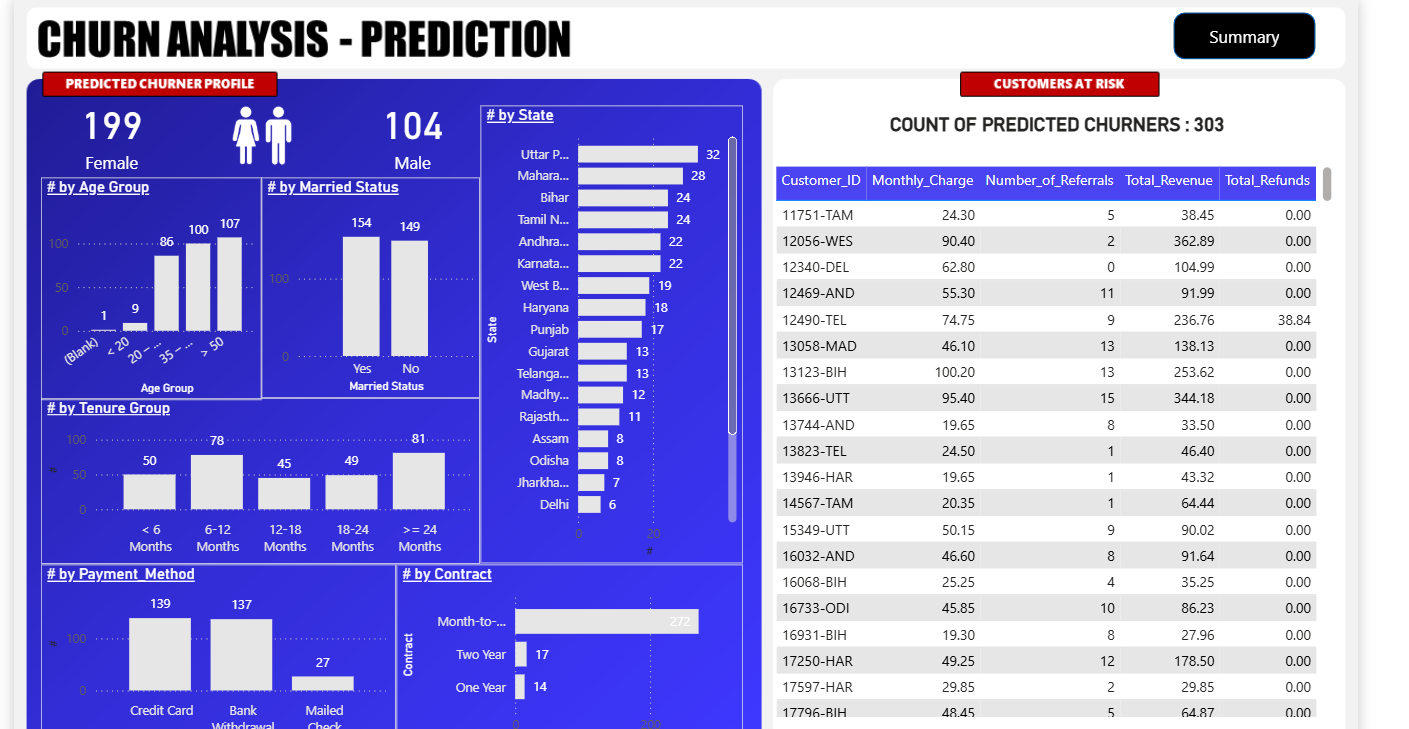

Layout of this report page (visuals, bound fields, positions):
{"tool":"powerbi","page":{"name":"Churn predictions","canvas":[1280,720],"ordinal":2},"visuals":[{"type":"tableEx","fields":{"Values":["Predictions_churned.Customer_ID","Predictions_churned.Monthly_Charge","Predictions_churned.Number_of_Referrals","Predictions_churned.Total_Revenue","Predictions_churned.Total_Refunds"]},"box":[720,154,540,534],"z":0},{"type":"card","fields":{"Values":["Predictions_churned.Title of Predicted Churners"]},"box":[810,84,362,70],"z":1000},{"type":"card","fields":{"Values":["Predictions_churned.Count of Predicted Churner"]},"box":[26,84,134,86],"z":2000},{"type":"card","fields":{"Values":["Predictions_churned.Count of Predicted Churner"]},"box":[314,84,130,86],"z":3000},{"type":"clusteredColumnChart","fields":{"Category":["mapping_AgeGrp.Age Group"],"Y":["CountNonNull(Predictions_churned.Customer_ID)"]},"box":[26,170,210,212],"z":4000},{"type":"clusteredColumnChart","fields":{"Y":["CountNonNull(Predictions_churned.Customer_ID)"],"Category":["Predictions_churned.Married"]},"box":[236,170,208,210],"z":5000},{"type":"clusteredColumnChart","fields":{"Y":["CountNonNull(Predictions_churned.Customer_ID)"],"Category":["mapping_TenureGrp.Tenure Group"]},"box":[26,380,418,158],"z":6000},{"type":"clusteredColumnChart","fields":{"Y":["CountNonNull(Predictions_churned.Customer_ID)"],"Category":["Predictions_churned.Payment_Method"]},"box":[26,538,338,172],"z":7000},{"type":"clusteredBarChart","fields":{"Category":["Predictions_churned.Contract"],"Y":["CountNonNull(Predictions_churned.Customer_ID)"]},"box":[364,538,330,172],"z":8000},{"type":"clusteredBarChart","fields":{"Category":["Predictions_churned.State"],"Y":["CountNonNull(Predictions_churned.Customer_ID)"]},"box":[444,102,250,436],"z":9000},{"type":"image","box":[196,88,80,82],"z":10000},{"type":"shape","box":[1071.2,11.2,135,45],"z":10001}]}

Visuals, with their boxes on the page's 1280x720 design canvas (x1, y1, x2, y2). These are canvas units, not pixel positions in the 1409x729 screenshot, which may show the page scaled, cropped or inside an application window:
tableEx - Predictions_churned.Customer_ID x Predictions_churned.Monthly_Charge: (x1=720, y1=154, x2=1260, y2=688)
card - Predictions_churned.Title of Predicted Churners: (x1=810, y1=84, x2=1172, y2=154)
card - Predictions_churned.Count of Predicted Churner: (x1=26, y1=84, x2=160, y2=170)
card - Predictions_churned.Count of Predicted Churner: (x1=314, y1=84, x2=444, y2=170)
clusteredColumnChart - mapping_AgeGrp.Age Group x CountNonNull(Predictions_churned.Customer_ID): (x1=26, y1=170, x2=236, y2=382)
clusteredColumnChart - CountNonNull(Predictions_churned.Customer_ID) x Predictions_churned.Married: (x1=236, y1=170, x2=444, y2=380)
clusteredColumnChart - CountNonNull(Predictions_churned.Customer_ID) x mapping_TenureGrp.Tenure Group: (x1=26, y1=380, x2=444, y2=538)
clusteredColumnChart - CountNonNull(Predictions_churned.Customer_ID) x Predictions_churned.Payment_Method: (x1=26, y1=538, x2=364, y2=710)
clusteredBarChart - Predictions_churned.Contract x CountNonNull(Predictions_churned.Customer_ID): (x1=364, y1=538, x2=694, y2=710)
clusteredBarChart - Predictions_churned.State x CountNonNull(Predictions_churned.Customer_ID): (x1=444, y1=102, x2=694, y2=538)
image: (x1=196, y1=88, x2=276, y2=170)
shape: (x1=1071, y1=11, x2=1206, y2=56)
